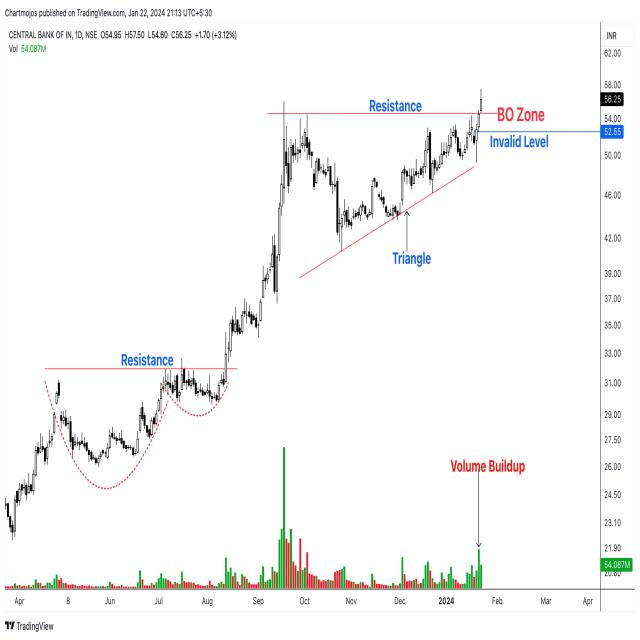Ascending-Triangle: (245, 118, 492, 311)
Cup-and-handle: (48, 371, 238, 468)
